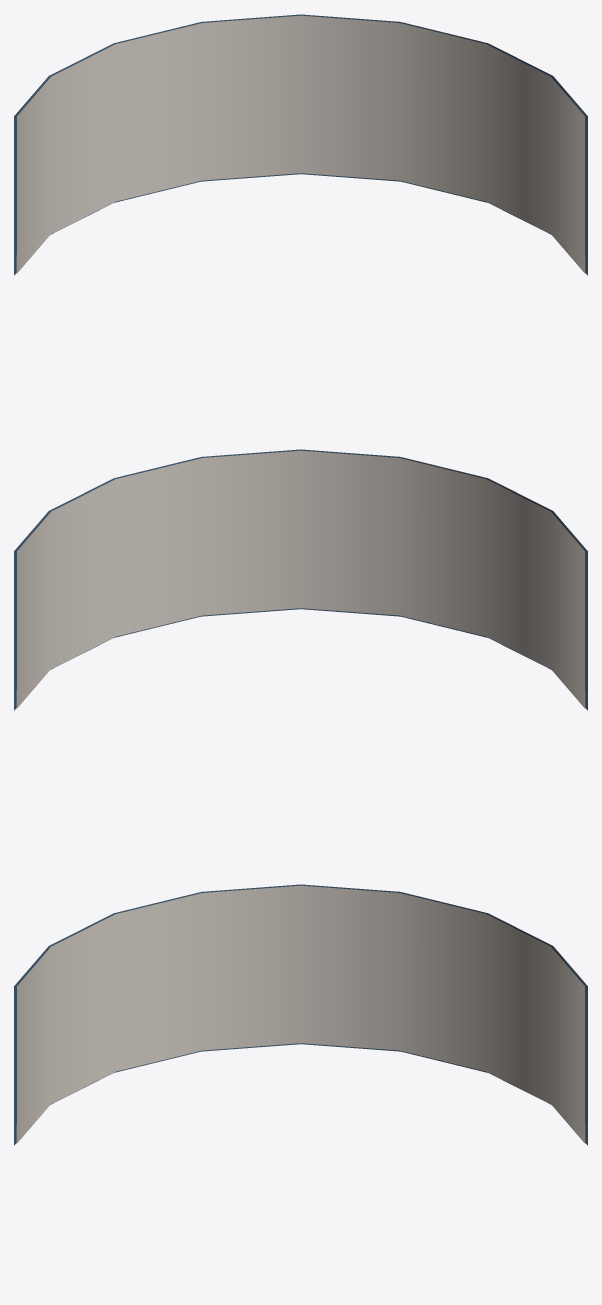
File: sky_distant0002.glb
3 views of the same model, one above another, from view 1: azimuth 30°, elevation 25°; view 2: azimuth 150°, elevation 25°; view 3: azimuth 270°, elevation 25° (orthographic).
Visible parts, largest first — view 1: sky_distant0002; view 2: sky_distant0002; view 3: sky_distant0002.
Part boxes in pixels (x1=…): sky_distant0002: x1=14, y1=14, x2=587, y2=275; sky_distant0002: x1=14, y1=449, x2=587, y2=710; sky_distant0002: x1=14, y1=884, x2=587, y2=1145.
Size of the model in its own units: 1.73 by 0.522 by 1.7.
Materials: 2 (2 with a texture image).
